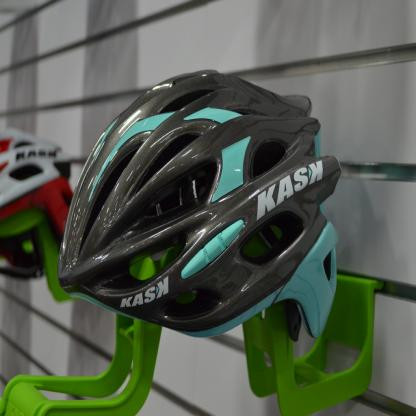Helmet: (56, 69, 341, 344), (0, 124, 73, 234)
